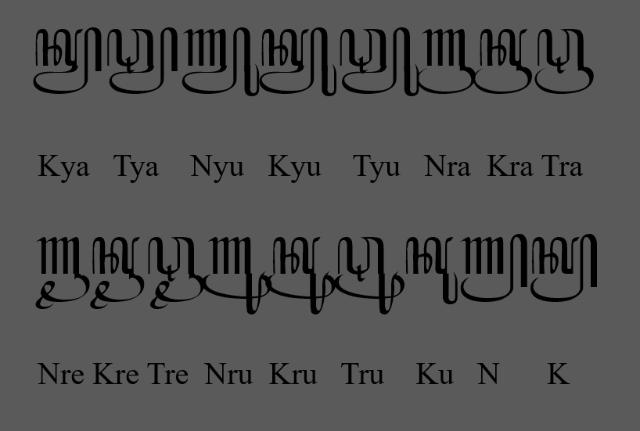-K: (530, 233, 598, 303)
-N: (459, 233, 528, 303)
Kr: (472, 28, 532, 94)
Kre: (88, 236, 144, 310)
Kru: (266, 236, 336, 316)
Ku: (406, 236, 458, 304)
Ky: (33, 27, 103, 96)
Kyu: (258, 27, 338, 97)
Nr: (416, 27, 476, 95)
Nre: (35, 236, 91, 310)
Nru: (200, 236, 272, 316)
Ny: (182, 26, 260, 98)
Tr: (534, 28, 594, 94)
Tre: (148, 236, 204, 310)
Tru: (334, 235, 406, 315)
Ty: (105, 25, 178, 94)
Tyu: (338, 27, 419, 97)
